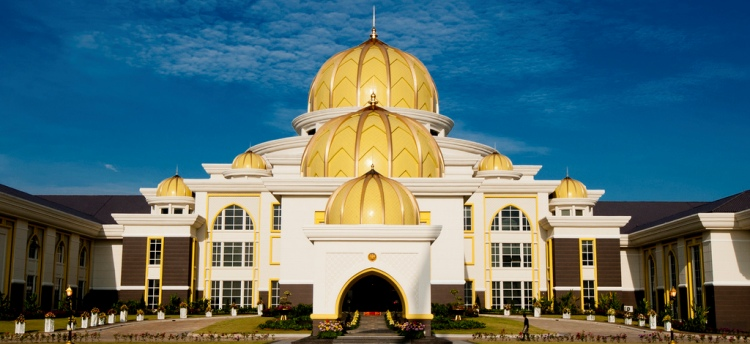Mosque: (140, 15, 603, 313)
